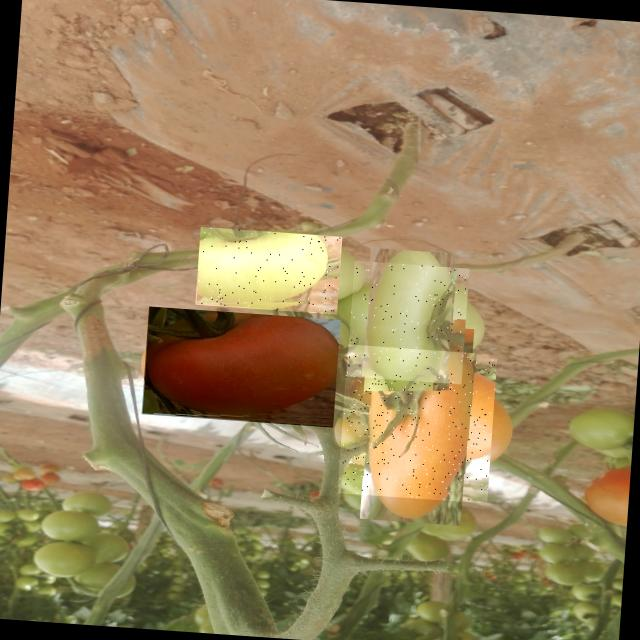Ripe Tomato: (141, 306, 340, 427)
Unripe Tomato: (337, 344, 497, 503), (346, 260, 469, 384), (195, 226, 342, 314)
